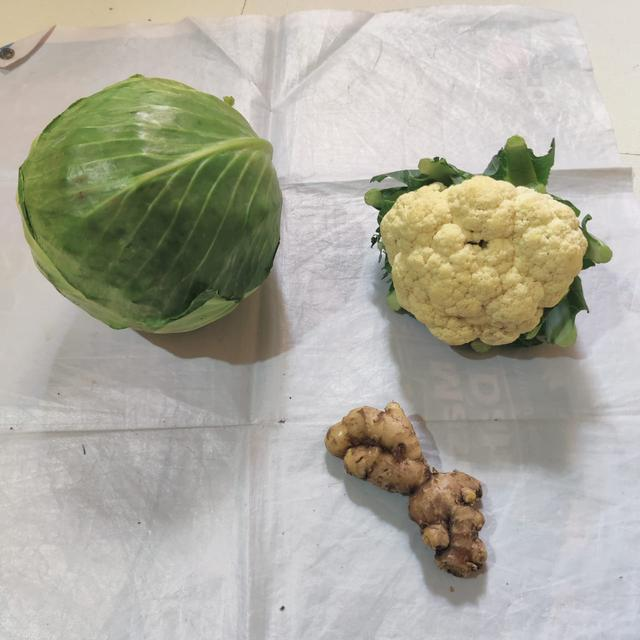Organik: (0, 62, 309, 354), (344, 117, 632, 374), (314, 396, 508, 590)
